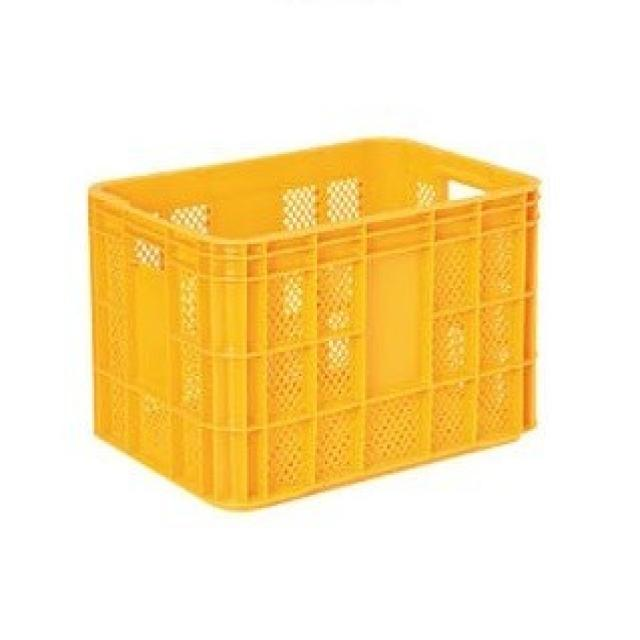basket: (69, 121, 571, 524)
